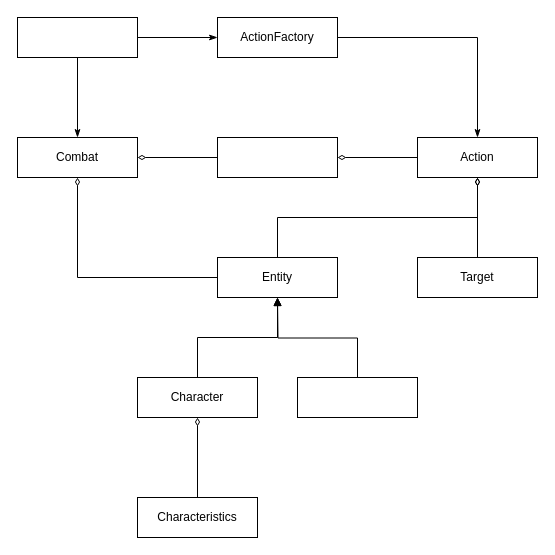
Some shapes in this 555 by 555 pixel diagram are drawn without their labels. Each missing label, with the box of its shape:
InputReceiver: (16, 16, 138, 58)
Interactable: (296, 376, 418, 418)
Turn: (216, 136, 338, 178)
